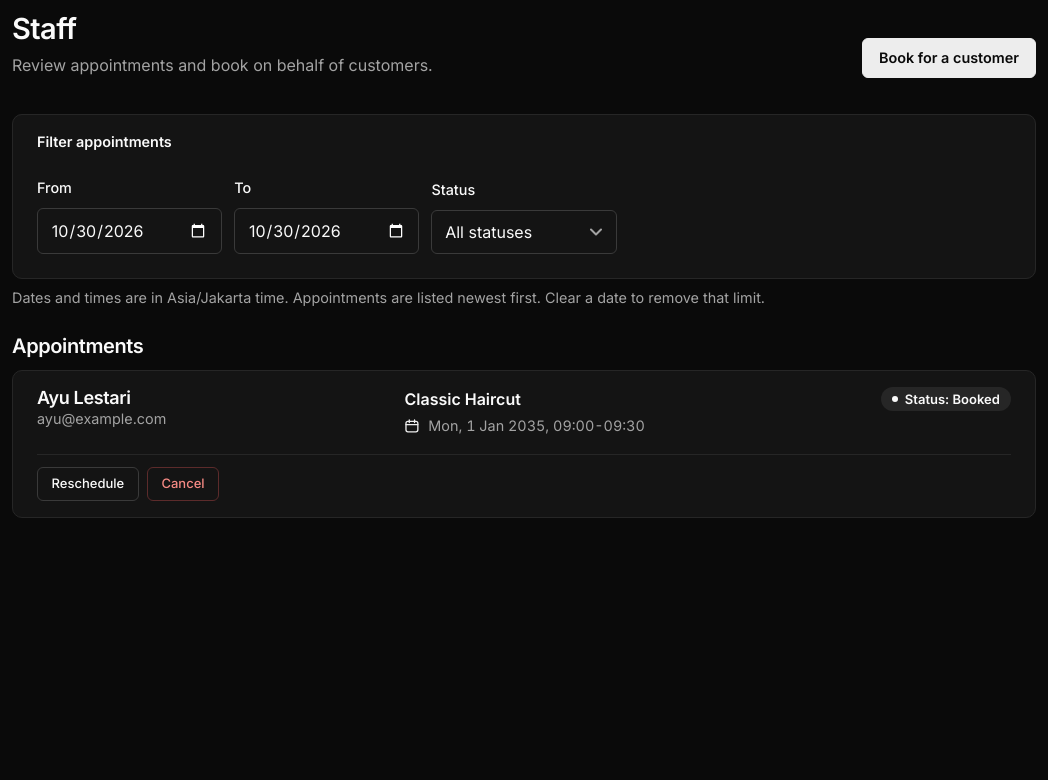
it: StaffAppointmentList actions › shows the message on a 403 without refetching or logging out
Step 1. Click the button named "Cancel appointment for Ayu Lestari" → [183, 484], box x1=147 y1=467 x2=219 y2=501
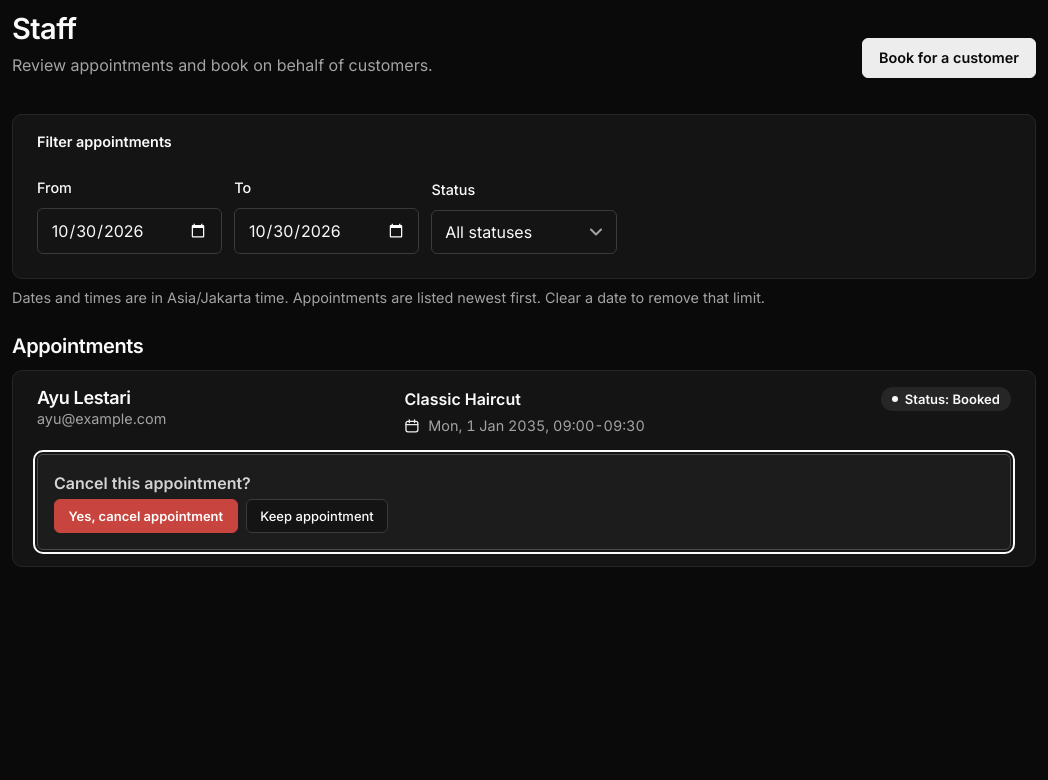
Step 2. Click the button "Yes, cancel appointment" → [146, 516], box x1=54 y1=499 x2=238 y2=533
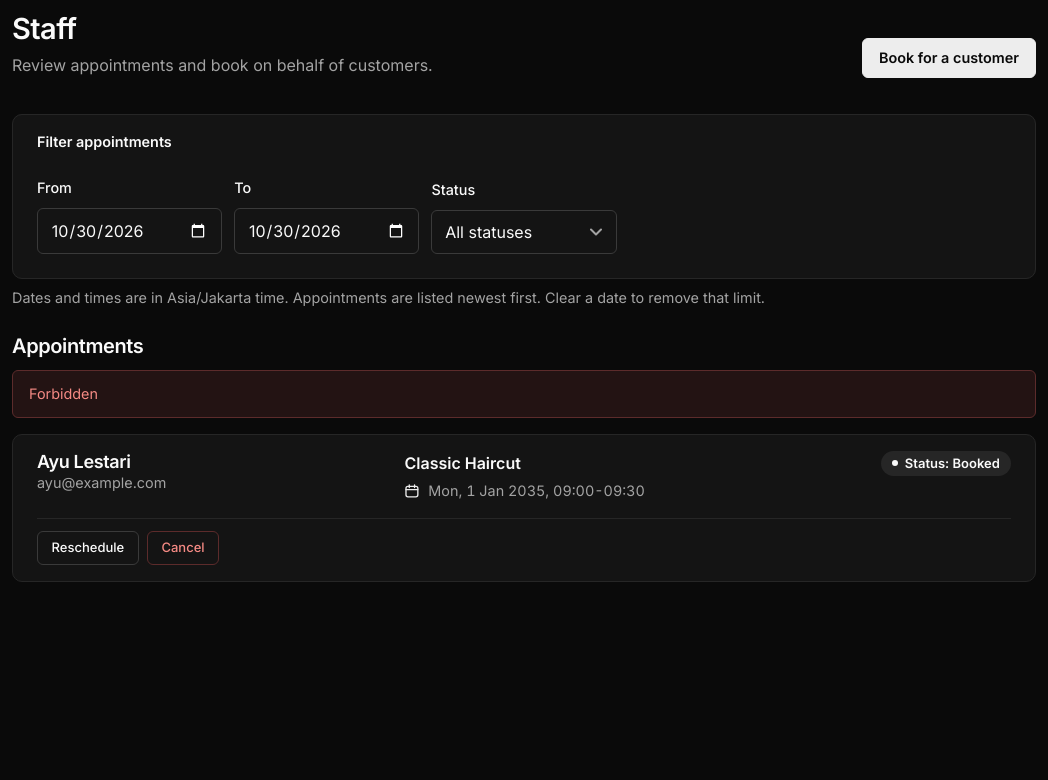
Expected: the heading "Ayu Lestari" is shown, x1=37 y1=451 x2=130 y2=472
Expected: the message "Forbidden" is shown, x1=12 y1=370 x2=1036 y2=418
